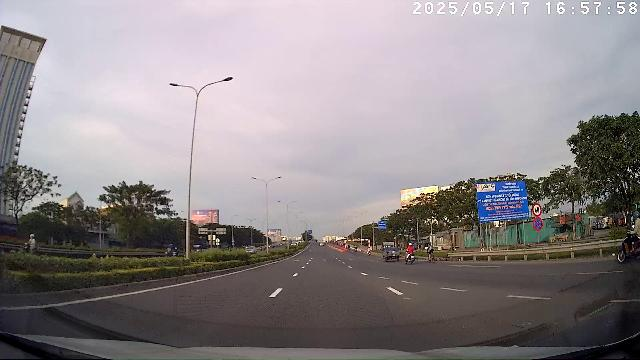127-toc-do-toi-da-60: (532, 203, 542, 217)
130-cam-dung-va-do-xe: (533, 218, 543, 231)
